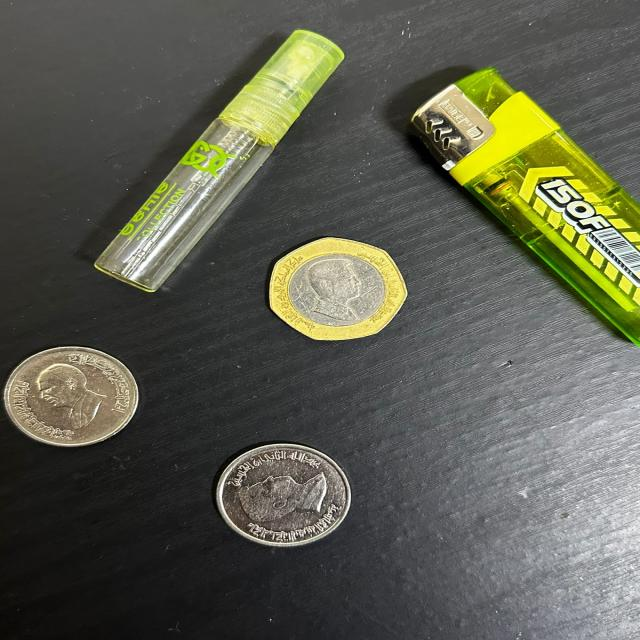10-coins: (7, 345, 140, 448)
5-coins: (214, 440, 351, 551)
50-coins: (269, 235, 409, 341)
